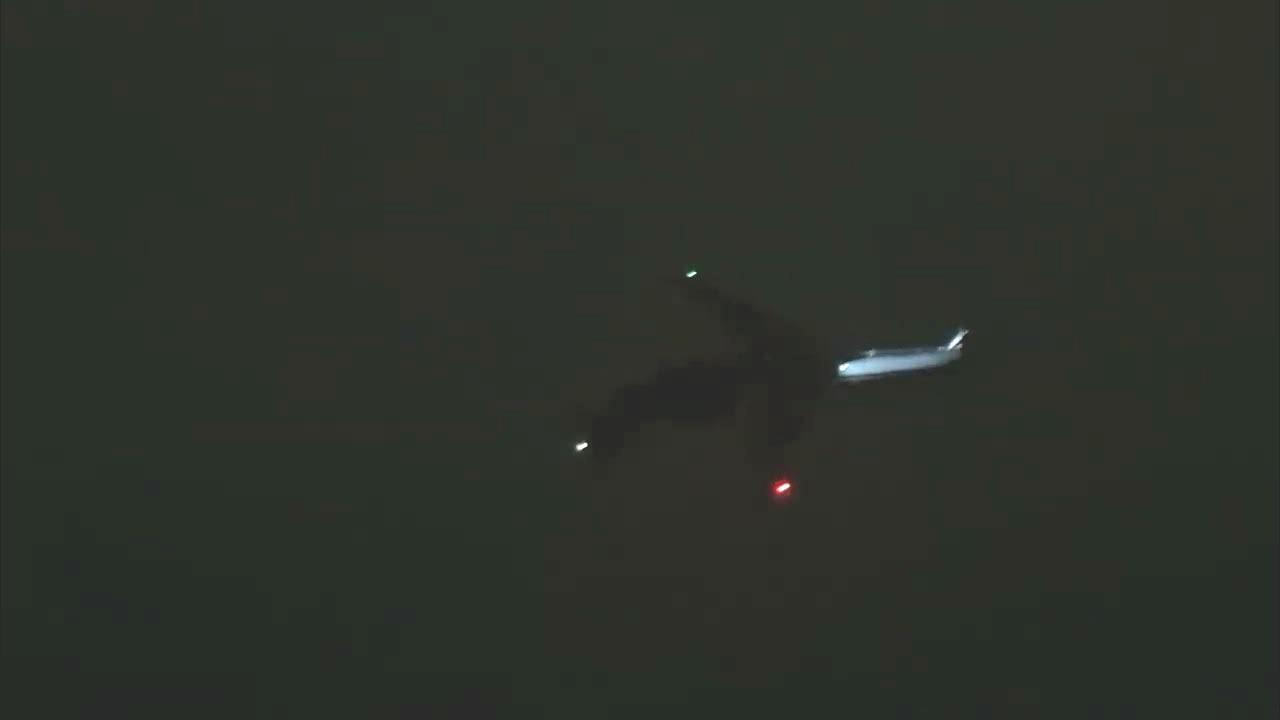Plane: (550, 228, 1030, 550)
